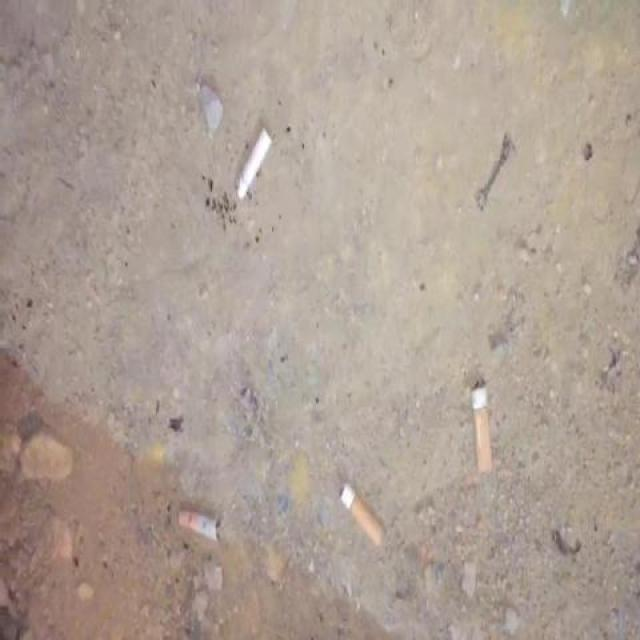non-organic waste: (336, 481, 393, 558), (233, 124, 276, 204), (467, 374, 498, 481), (175, 502, 232, 550)
